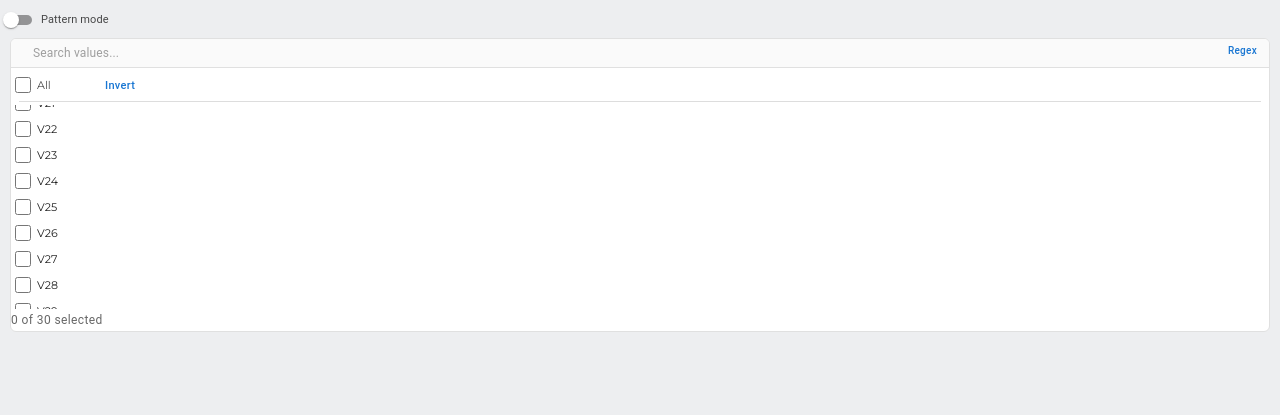
Test: DiscreteFilterControl › keeps the same list element when the first value is selected
(page scrolled)
Click the checkbox labelled "V25" at coordinates (23, 207), box [15,199,31,215]
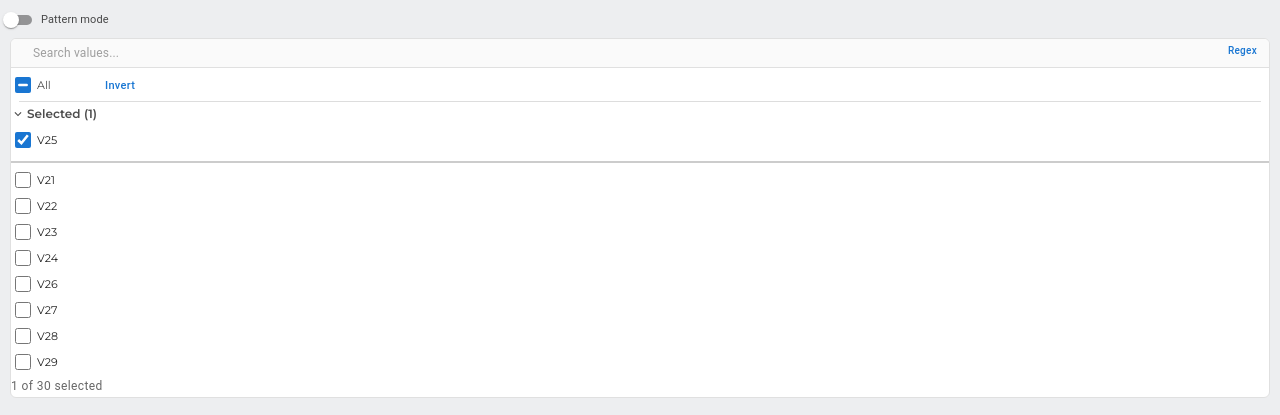
Check: the element named "V25" is shown, box [15,172,58,370]
Check: the button "Selected (1)" is shown, box [11,105,1269,123]
